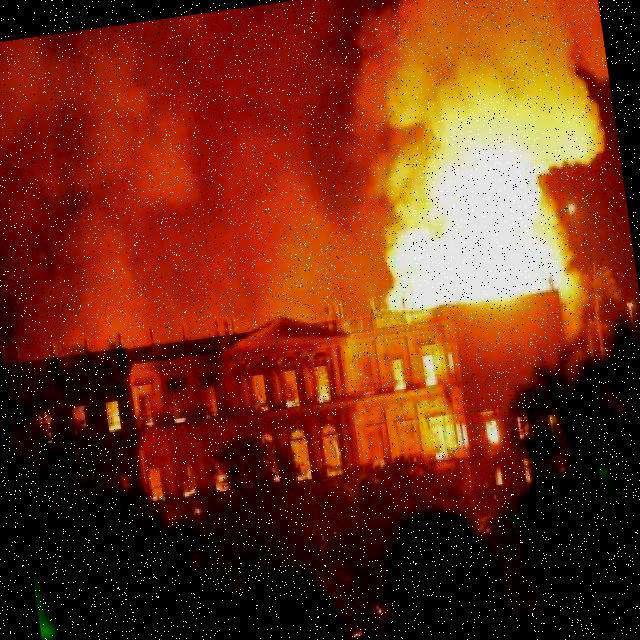Fire: (370, 173, 583, 321), (418, 349, 440, 397), (425, 418, 450, 458), (475, 415, 500, 455), (386, 357, 411, 393), (248, 394, 272, 425), (317, 383, 338, 411), (284, 392, 305, 418)
